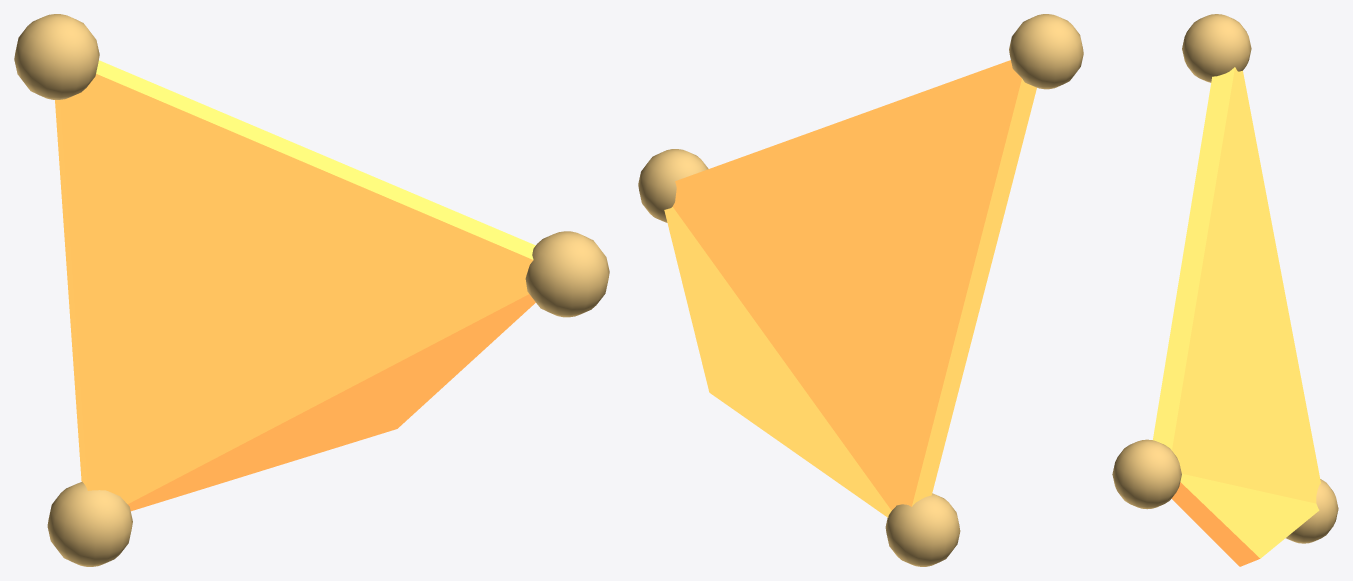
File: wing_left.glb
The picture shows the model from 3 angles, left to right: view 1: azimuth 30°, elevation 25°; view 2: azimuth 150°, elevation 25°; view 3: azimuth 270°, elevation 25°; orthographic projection. The views are drawn at different scales.
Parts seen in each view (by area): view 1: Dragon wing, Wing tip.001, Wing tip, Wing tip.002; view 2: Dragon wing, Wing tip.001, Wing tip.002, Wing tip; view 3: Dragon wing, Wing tip, Wing tip.001, Wing tip.002.
Boxes of the visible parts, x1,y1,x2,y2 form: Dragon wing: (55, 60, 535, 511); Wing tip.001: (14, 14, 99, 99); Wing tip: (525, 231, 609, 317); Wing tip.002: (47, 481, 132, 566); Dragon wing: (664, 60, 1036, 517); Wing tip.001: (1009, 14, 1083, 89); Wing tip.002: (885, 493, 960, 566); Wing tip: (638, 149, 708, 222); Dragon wing: (1153, 67, 1320, 566); Wing tip: (1112, 439, 1181, 509); Wing tip.001: (1182, 14, 1251, 82); Wing tip.002: (1286, 479, 1338, 543).
Bounding box in the file's own units: 0.87 × 0.93 × 0.39.
